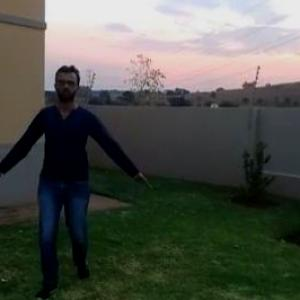land: (0, 64, 150, 281)
